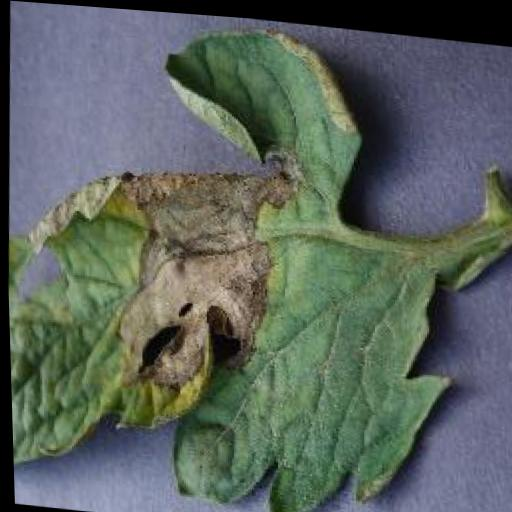Late Blight: (0, 0, 464, 512)
